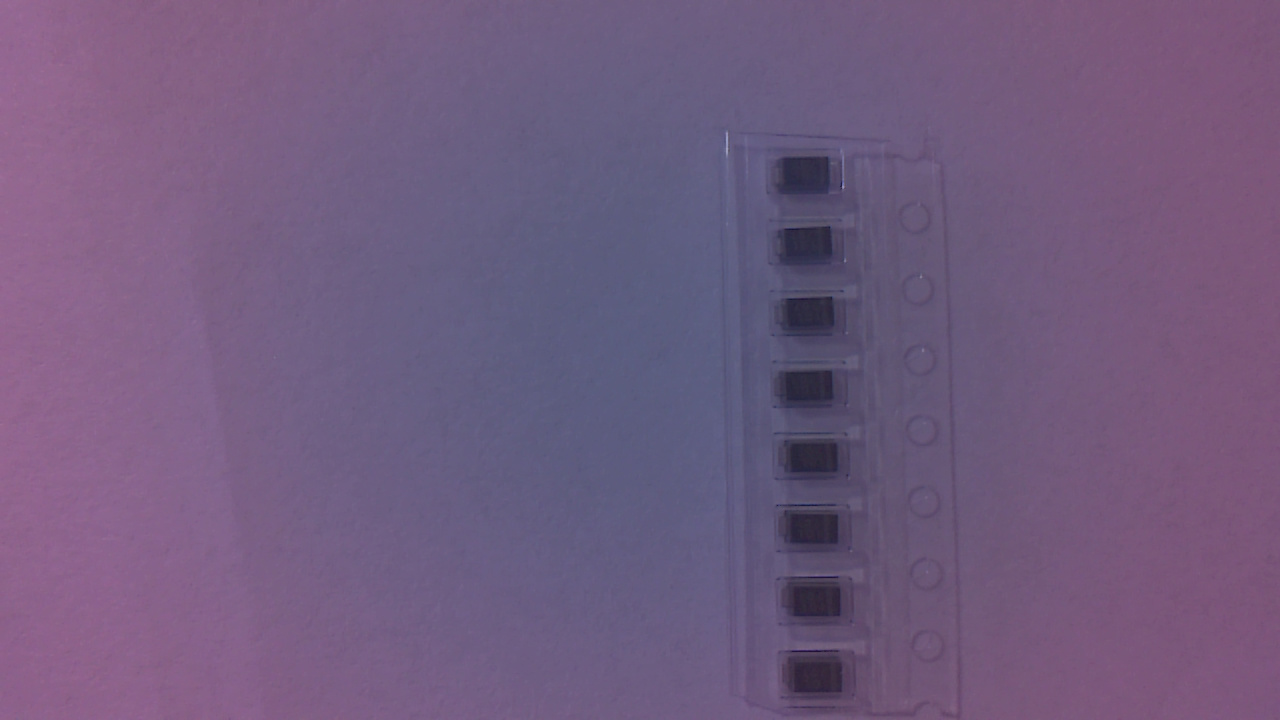Diode: (775, 160, 852, 206), (775, 227, 844, 273), (780, 510, 849, 556), (784, 581, 851, 626), (779, 440, 849, 483), (786, 657, 853, 701), (777, 296, 845, 338), (780, 370, 845, 411)
